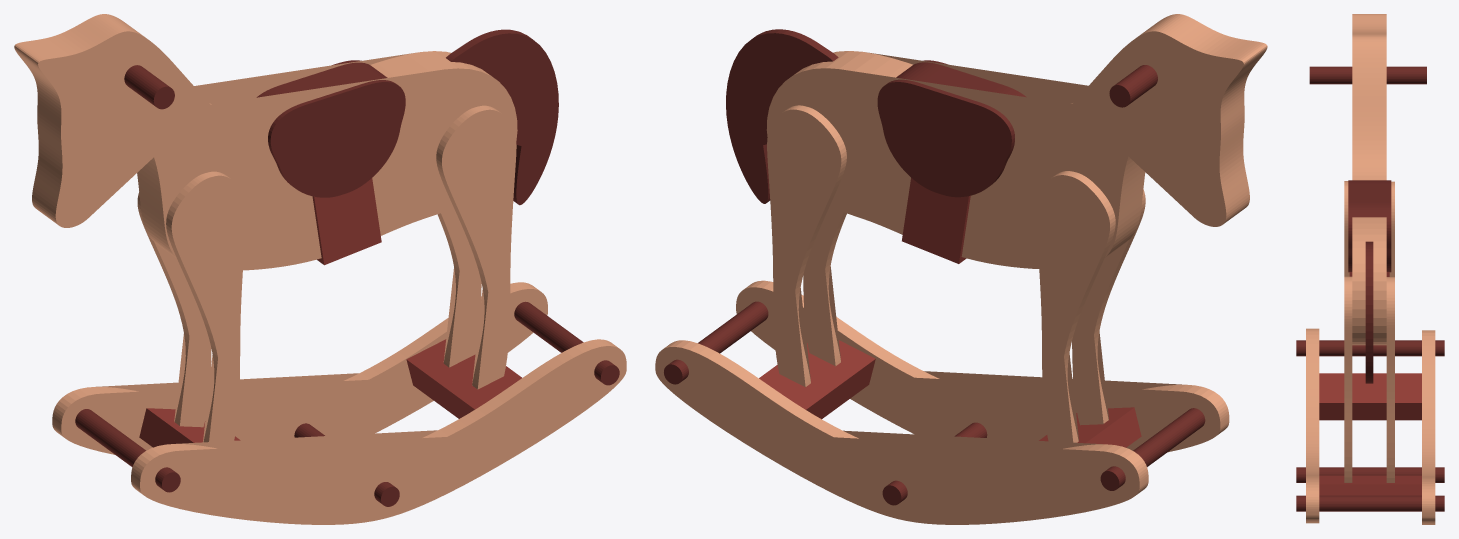
The model's file is konik_update.fbx.
The picture shows the model from 3 angles, left to right: view 1: azimuth 30°, elevation 25°; view 2: azimuth 150°, elevation 25°; view 3: azimuth 270°, elevation 25°; orthographic projection. The views are drawn at different scales.
Visible parts, largest first — view 1: Cube; view 2: Cube; view 3: Cube.
Boxes of the visible parts, x1,y1,x2,y2 form: Cube: (14, 14, 626, 524); Cube: (655, 14, 1267, 524); Cube: (1296, 14, 1444, 524).
Bounding box in the file's own units: 4025 × 3591 × 1274.
